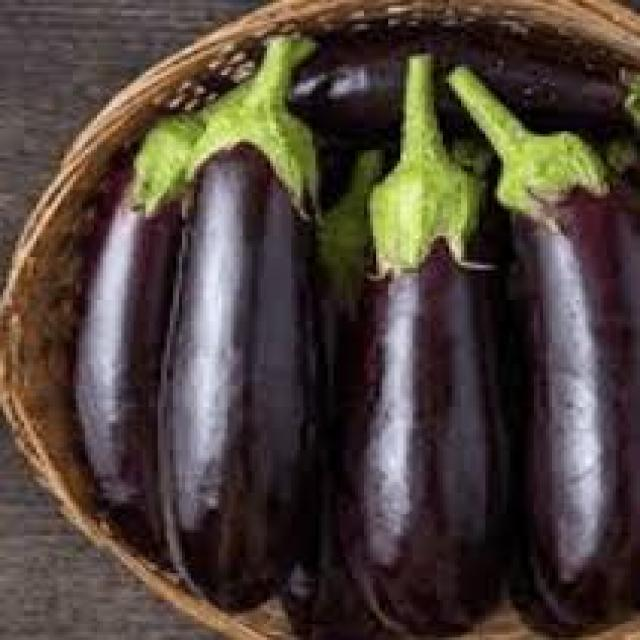Eggplant: (158, 37, 318, 608), (364, 54, 497, 640)
